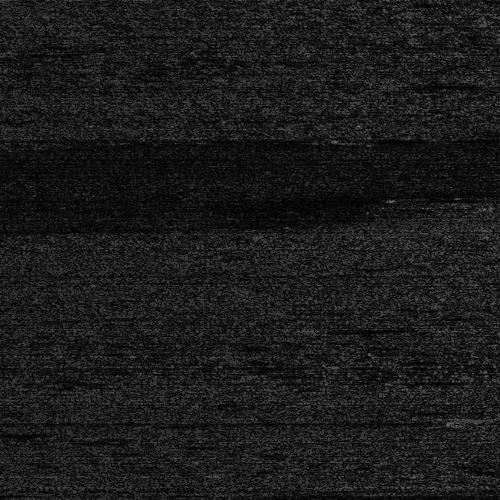object: (416, 411, 500, 426), (296, 325, 337, 330)
shadow: (317, 325, 404, 330)
